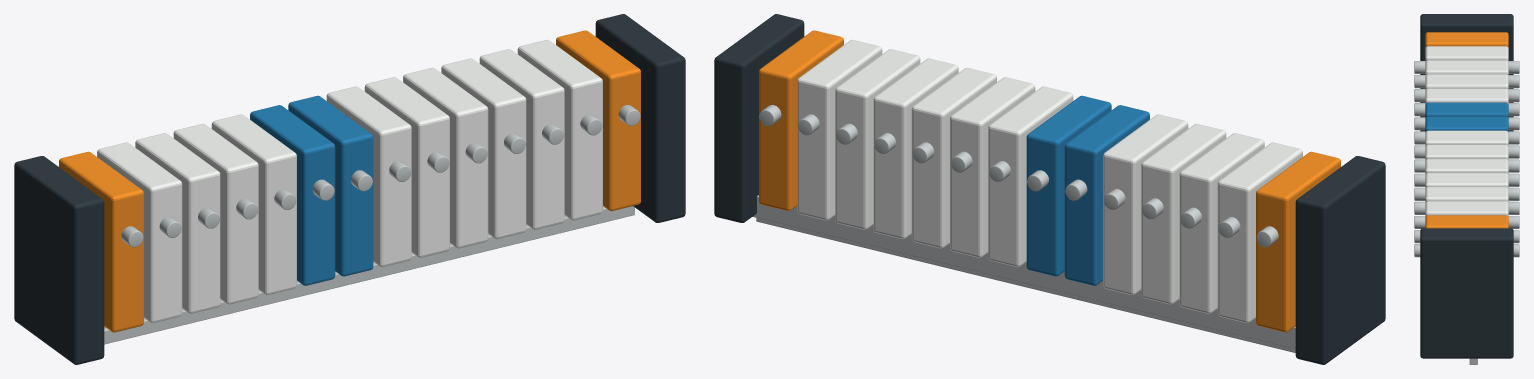
Rendered from din_terminal_strip.glb.
3 views of the same model, side by side, from view 1: azimuth 30°, elevation 25°; view 2: azimuth 150°, elevation 25°; view 3: azimuth 270°, elevation 25° (orthographic). The views are drawn at different scales.
Visible parts, largest first — view 1: END_STOP_LEFT, END_STOP_RIGHT, TERMINAL_BLOCK_0, TERMINAL_BLOCK_3, TERMINAL_BLOCK_9, TERMINAL_BLOCK_11, TERMINAL_BLOCK_1, TERMINAL_BLOCK_8, TERMINAL_BLOCK_12, TERMINAL_BLOCK_6, TERMINAL_BLOCK_2, TERMINAL_BLOCK_10 (+5 smaller); view 2: END_STOP_LEFT, END_STOP_RIGHT, DIN_RAIL, TERMINAL_BLOCK_0, TERMINAL_BLOCK_3, TERMINAL_BLOCK_9, TERMINAL_BLOCK_11, TERMINAL_BLOCK_1, TERMINAL_BLOCK_8, TERMINAL_BLOCK_12, TERMINAL_BLOCK_6, TERMINAL_BLOCK_2 (+6 smaller); view 3: END_STOP_RIGHT, END_STOP_LEFT, TERMINAL_BLOCK_0, TERMINAL_BLOCK_1, TERMINAL_BLOCK_5, TERMINAL_BLOCK_11, TERMINAL_BLOCK_12, TERMINAL_BLOCK_2, TERMINAL_BLOCK_3, TERMINAL_BLOCK_4, TERMINAL_BLOCK_6, TERMINAL_BLOCK_7 (+28 smaller).
Part boxes in pixels (left/top/right/bottom): END_STOP_LEFT: left=14, top=156, right=104, bottom=364; END_STOP_RIGHT: left=595, top=14, right=685, bottom=222; TERMINAL_BLOCK_0: left=59, top=151, right=143, bottom=332; TERMINAL_BLOCK_3: left=173, top=123, right=258, bottom=304; TERMINAL_BLOCK_9: left=403, top=67, right=488, bottom=248; TERMINAL_BLOCK_11: left=479, top=49, right=564, bottom=229; TERMINAL_BLOCK_1: left=97, top=142, right=182, bottom=322; TERMINAL_BLOCK_8: left=364, top=77, right=449, bottom=257; TERMINAL_BLOCK_12: left=517, top=39, right=602, bottom=220; TERMINAL_BLOCK_6: left=288, top=95, right=373, bottom=276; TERMINAL_BLOCK_2: left=135, top=133, right=220, bottom=313; TERMINAL_BLOCK_10: left=441, top=58, right=526, bottom=239; END_STOP_LEFT: left=1295, top=156, right=1385, bottom=364; END_STOP_RIGHT: left=714, top=14, right=804, bottom=222; DIN_RAIL: left=752, top=195, right=1295, bottom=349; TERMINAL_BLOCK_0: left=1256, top=151, right=1340, bottom=332; TERMINAL_BLOCK_3: left=1141, top=123, right=1226, bottom=304; TERMINAL_BLOCK_9: left=911, top=67, right=996, bottom=248; TERMINAL_BLOCK_11: left=835, top=49, right=920, bottom=229; TERMINAL_BLOCK_1: left=1217, top=142, right=1302, bottom=322; TERMINAL_BLOCK_8: left=950, top=77, right=1035, bottom=257; TERMINAL_BLOCK_12: left=797, top=39, right=882, bottom=220; TERMINAL_BLOCK_6: left=1026, top=95, right=1111, bottom=276; TERMINAL_BLOCK_2: left=1179, top=133, right=1264, bottom=313; END_STOP_RIGHT: left=1420, top=228, right=1513, bottom=358; END_STOP_LEFT: left=1420, top=14, right=1513, bottom=131; TERMINAL_BLOCK_0: left=1425, top=32, right=1508, bottom=47; TERMINAL_BLOCK_1: left=1425, top=46, right=1508, bottom=61; TERMINAL_BLOCK_5: left=1425, top=102, right=1508, bottom=118; TERMINAL_BLOCK_11: left=1425, top=187, right=1508, bottom=202; TERMINAL_BLOCK_12: left=1425, top=201, right=1508, bottom=216; TERMINAL_BLOCK_2: left=1425, top=60, right=1508, bottom=76; TERMINAL_BLOCK_3: left=1425, top=74, right=1508, bottom=90; TERMINAL_BLOCK_4: left=1425, top=88, right=1508, bottom=104; TERMINAL_BLOCK_6: left=1425, top=116, right=1508, bottom=132; TERMINAL_BLOCK_7: left=1425, top=130, right=1508, bottom=146.
Size of the model in its own units: 1.6 by 0.4425 by 0.315.
